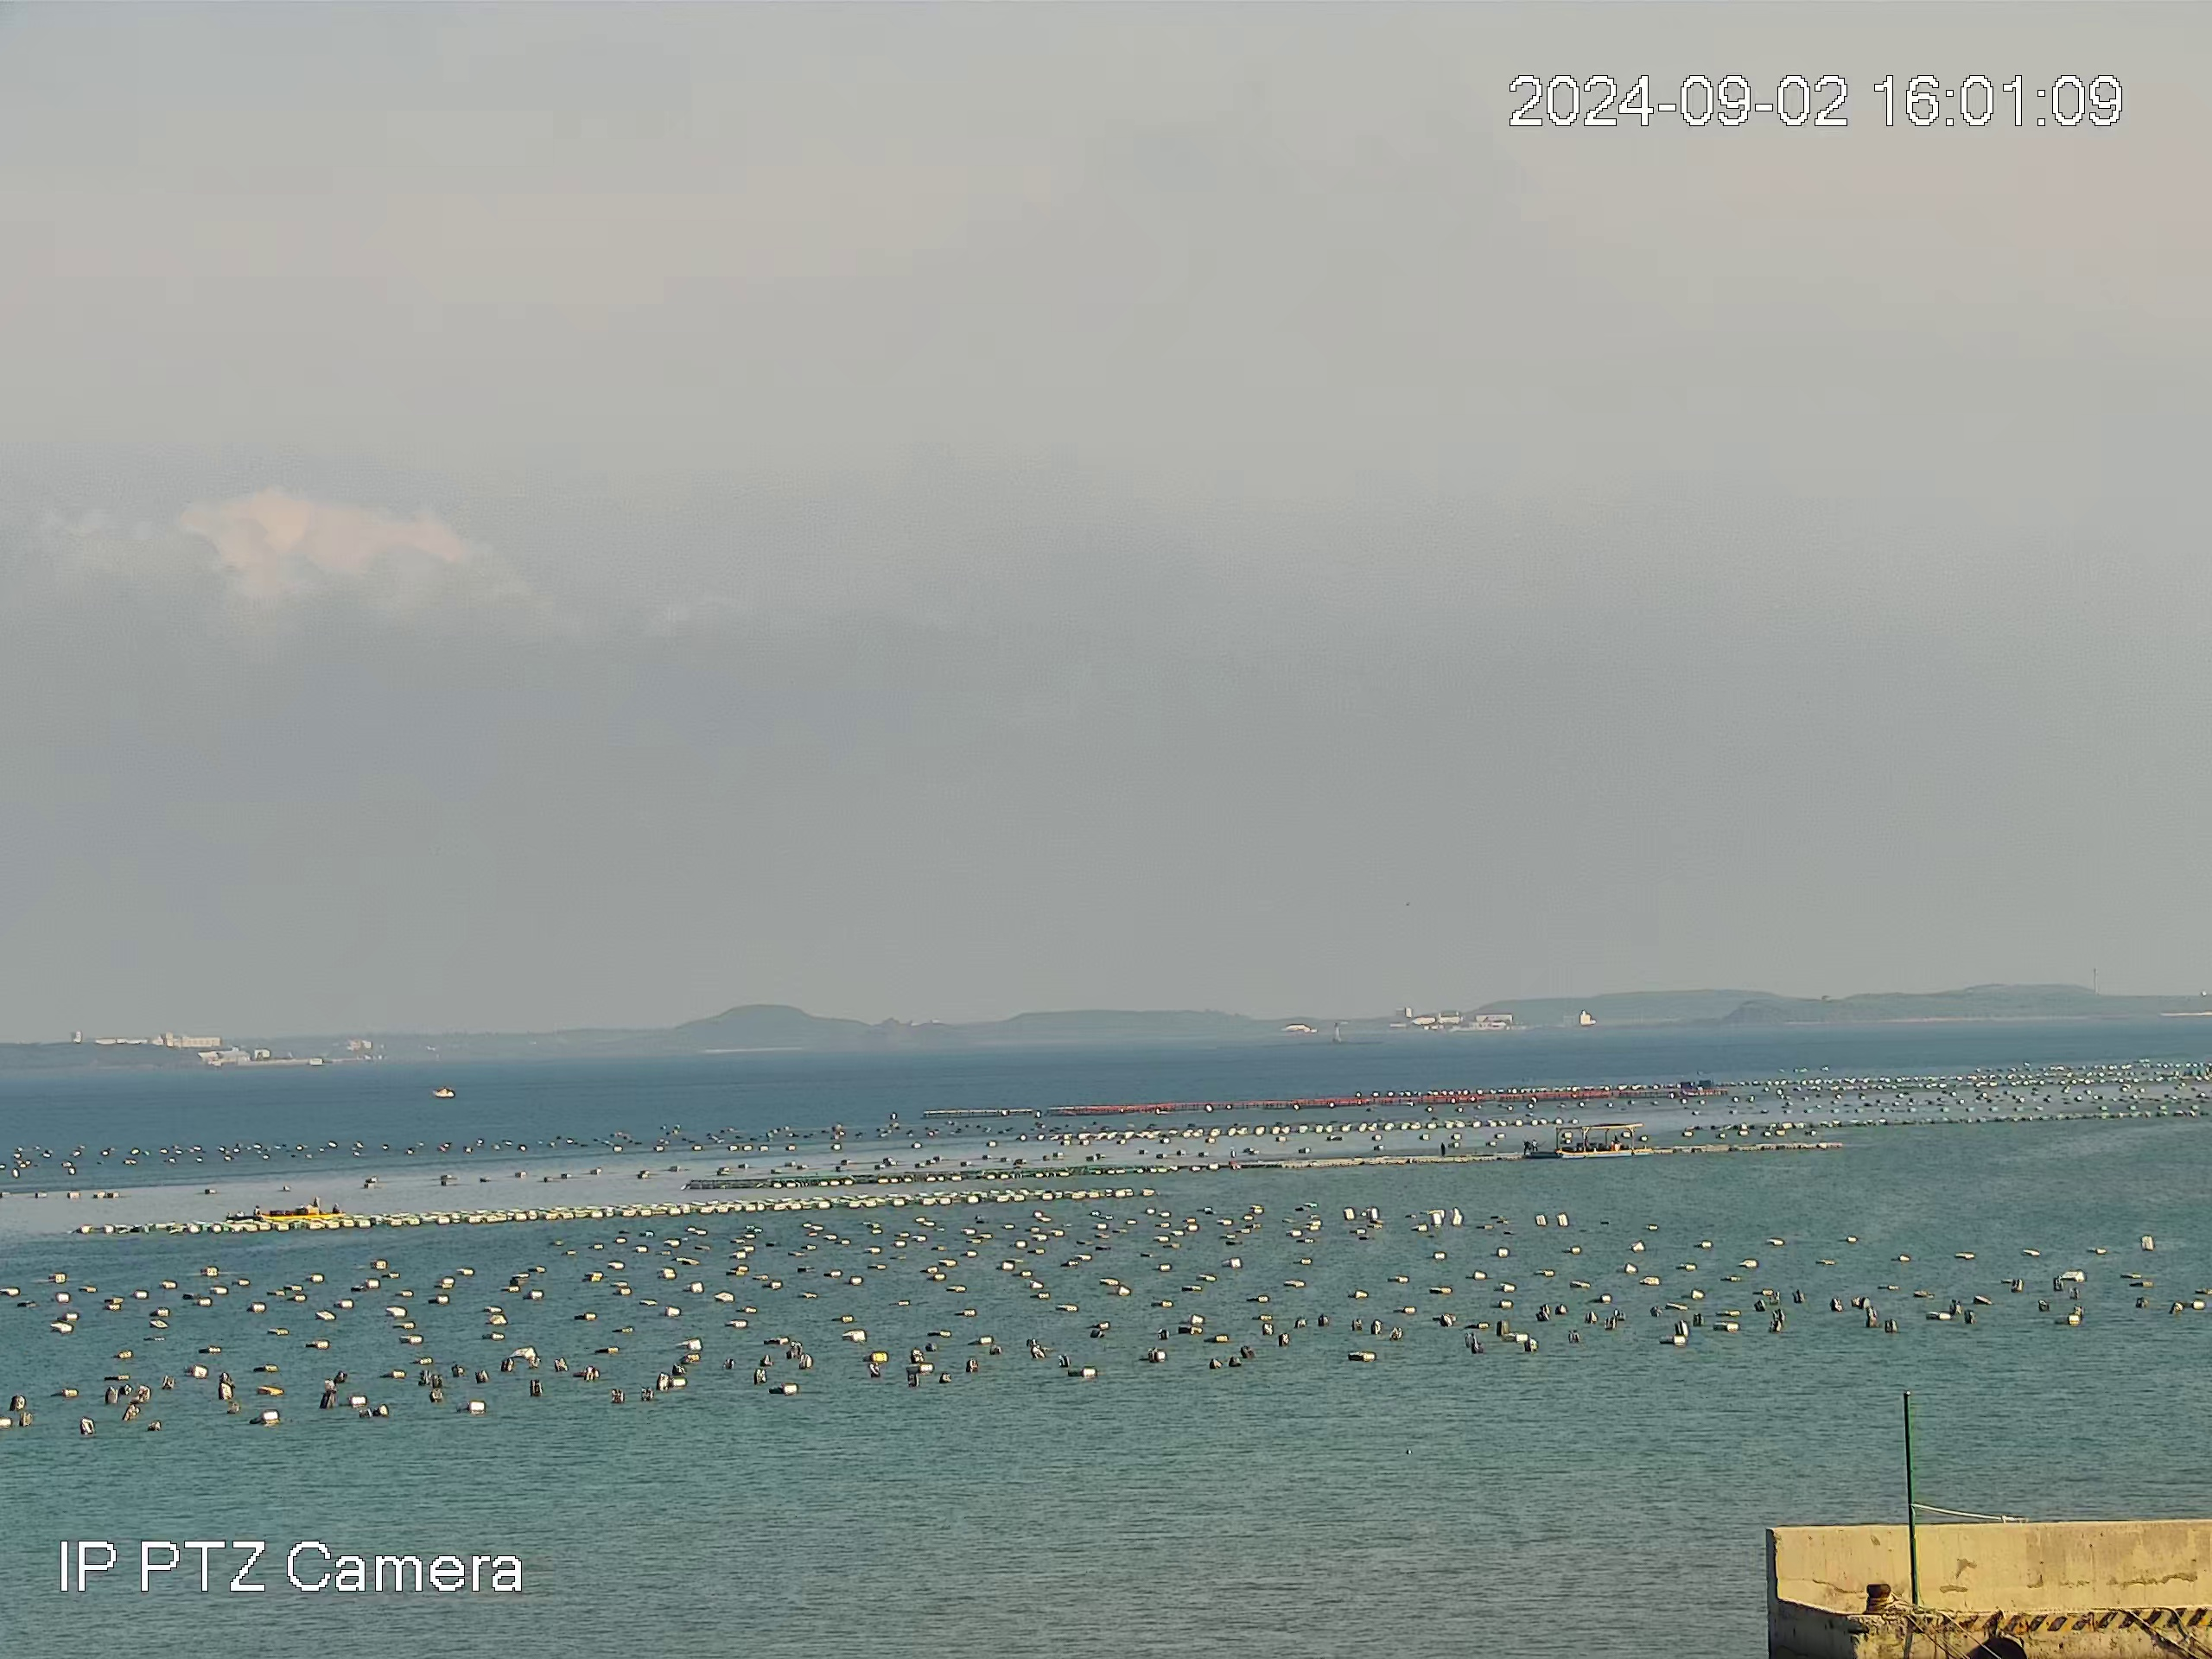boat: (1554, 1122, 1655, 1160), (226, 1196, 346, 1220), (430, 1084, 456, 1099)
